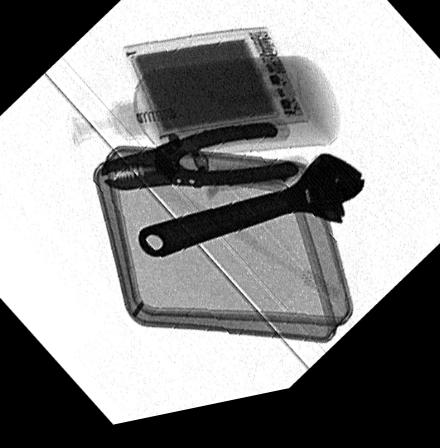Pliers: (97, 132, 299, 198)
Powerbank: (121, 36, 308, 145)
Wrench: (136, 165, 366, 266)
